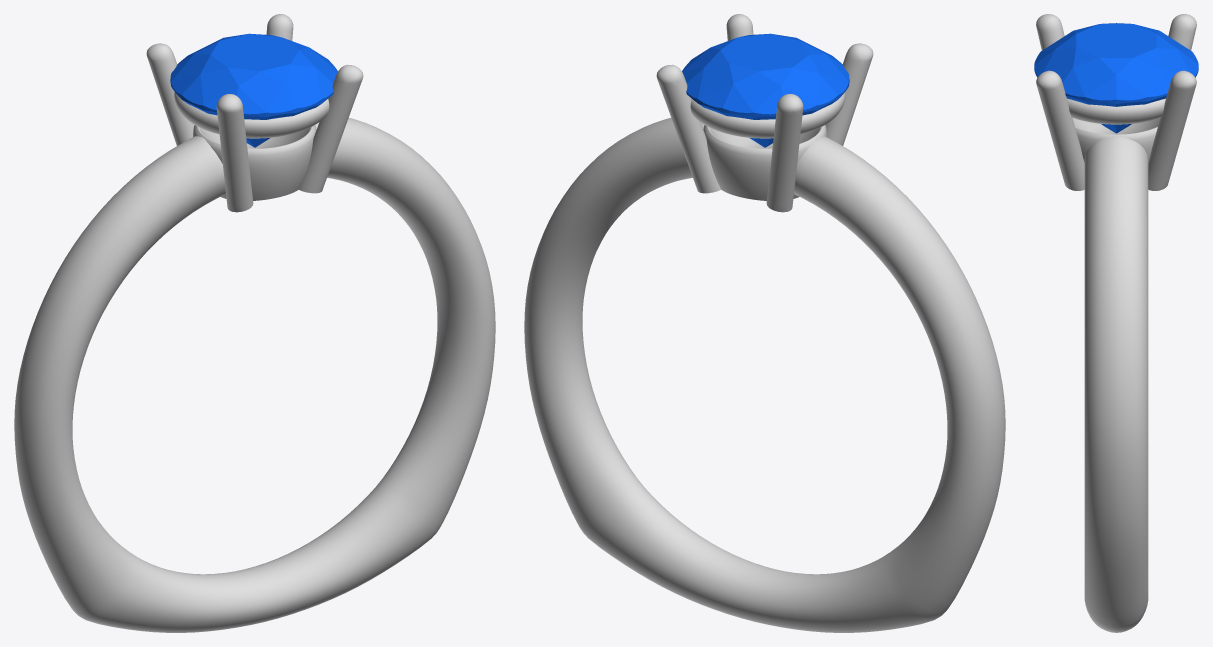
The model's file is bluesapphire-round-platinum-4prong-europeanshank-nosidestones.glb.
The picture shows the model from 3 angles, left to right: view 1: azimuth 30°, elevation 25°; view 2: azimuth 150°, elevation 25°; view 3: azimuth 270°, elevation 25°; orthographic projection. The views are drawn at different scales.
Parts seen in each view (by area): view 1: RoundEuroShankNoStones, Roundstone; view 2: RoundEuroShankNoStones, Roundstone; view 3: RoundEuroShankNoStones, Roundstone.
Part boxes in pixels (x1,y1,x2,y2): RoundEuroShankNoStones: [14, 14, 495, 632]; Roundstone: [170, 33, 337, 147]; RoundEuroShankNoStones: [524, 14, 1005, 632]; Roundstone: [682, 33, 849, 147]; RoundEuroShankNoStones: [1036, 14, 1196, 632]; Roundstone: [1034, 23, 1198, 133].
Bounding box in the file's own units: 20.7 × 23.81 × 6.44.
